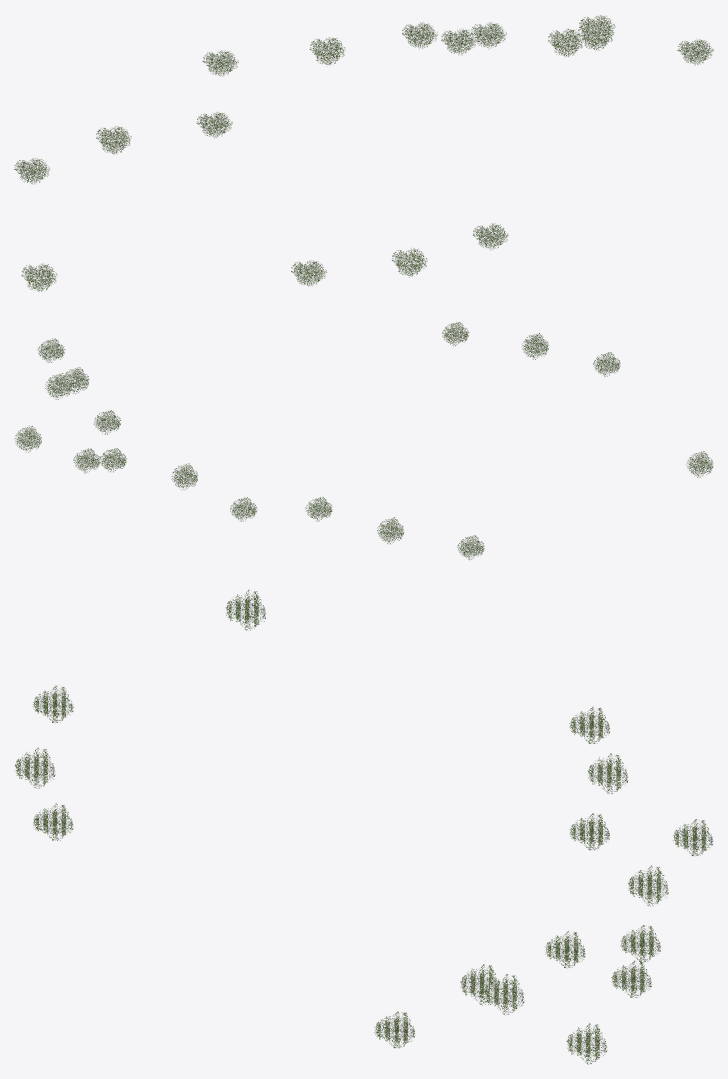
Rendered from context-plants.glb.
The picture shows the model from 3 angles, top to bottom: view 1: azimuth 30°, elevation 25°; view 2: azimuth 150°, elevation 25°; view 3: azimuth 270°, elevation 25°; orthographic projection. The views are drawn at different scales.
Parts seen in each view (by area): view 1: context-plants-other-0; view 2: context-plants-other-0; view 3: context-plants-other-0.
Boxes of the visible parts, x1=… form: context-plants-other-0: x1=14, y1=15, x2=713, y2=292; context-plants-other-0: x1=14, y1=321, x2=713, y2=560; context-plants-other-0: x1=14, y1=589, x2=713, y2=1064.
Size of the model in its own units: 116 by 10.53 by 77.19.
1 material, 1 textured.
